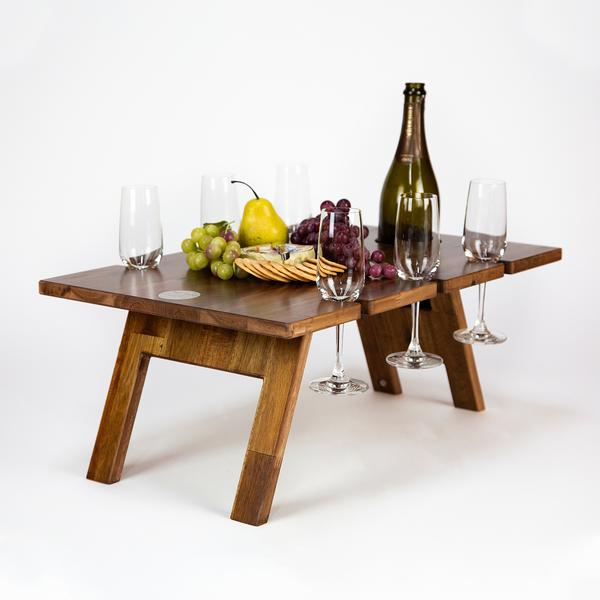bottle: (379, 82, 442, 283)
table: (42, 217, 567, 527)
